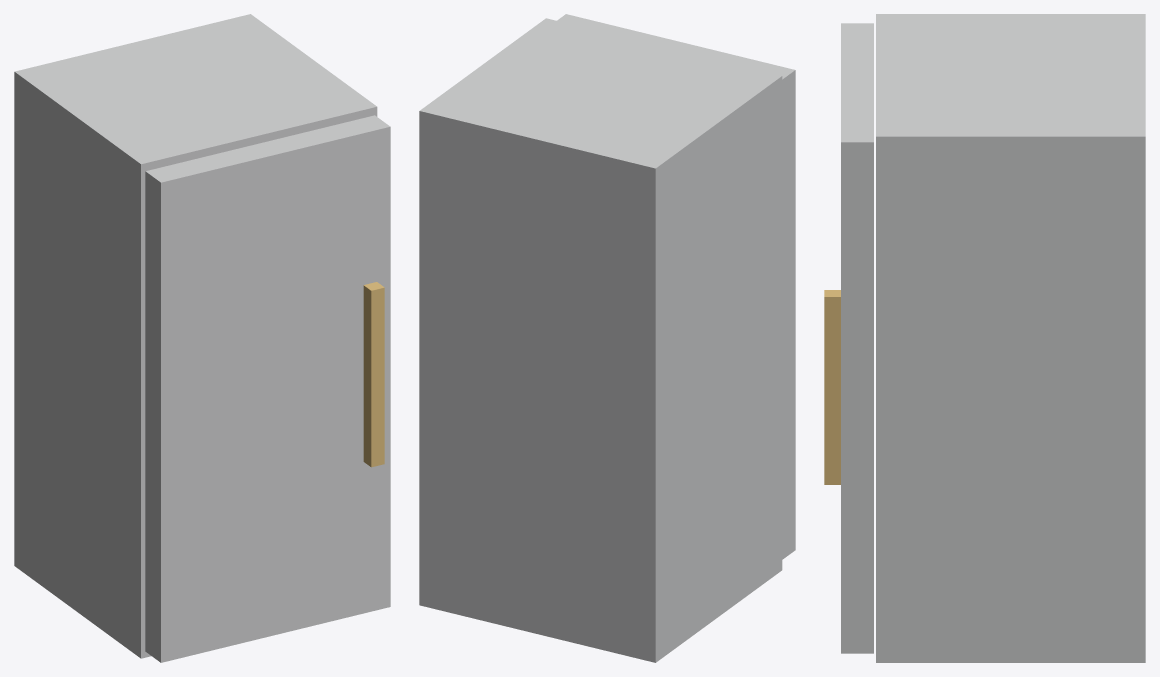
The model's file is good-named-pivot.glb.
The picture shows the model from 3 angles, left to right: view 1: azimuth 30°, elevation 25°; view 2: azimuth 150°, elevation 25°; view 3: azimuth 270°, elevation 25°; orthographic projection. The views are drawn at different scales.
Visible parts, largest first — view 1: Fridge_Door, Fridge_Body, Fridge_Handle; view 2: Fridge_Body, Fridge_Door; view 3: Fridge_Body, Fridge_Door, Fridge_Handle.
Part boxes in pixels (x1,y1,x2,y2): Fridge_Door: [145, 115, 390, 662]; Fridge_Body: [14, 14, 377, 658]; Fridge_Handle: [363, 282, 384, 467]; Fridge_Body: [419, 18, 782, 662]; Fridge_Door: [557, 14, 795, 559]; Fridge_Body: [876, 14, 1145, 662]; Fridge_Door: [841, 23, 873, 653]; Fridge_Handle: [824, 290, 840, 484].
Bounding box in the file's own units: 0.7 × 1.4 × 0.775.
